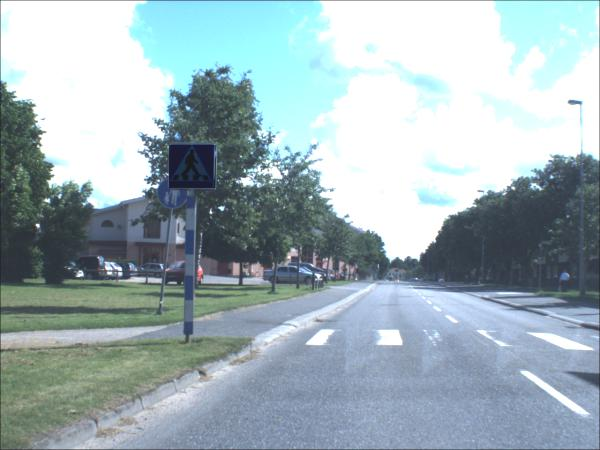PEDESTRIAN_CROSSING: (169, 146, 217, 190)
